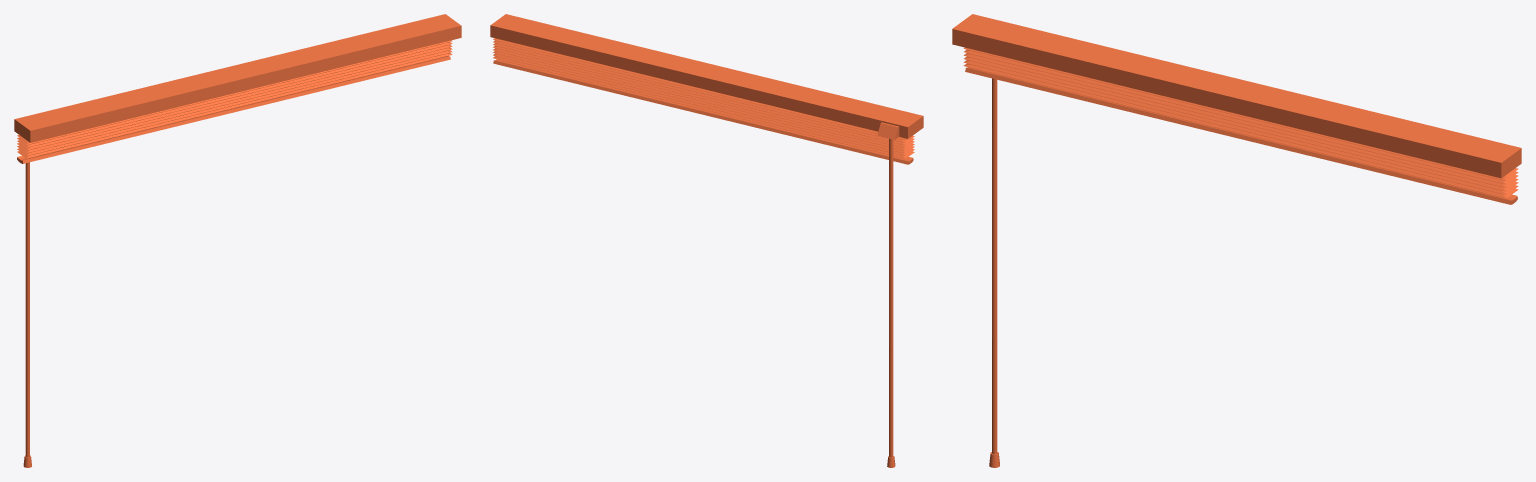
The model's file is STORES_fenetre_fermes.FBX.
The picture shows the model from 3 angles, left to right: view 1: azimuth 30°, elevation 25°; view 2: azimuth 150°, elevation 25°; view 3: azimuth 330°, elevation 25°; orthographic projection. The views are drawn at different scales.
Parts seen in each view (by area): view 1: stores002, Box001, stores_end002, stores_manivelle001; view 2: stores002, Box001, stores_end002, stores_manivelle001; view 3: stores002, Box001, stores_end002, stores_manivelle001.
Boxes of the visible parts, box(x1,y1,x2,y2) form: stores002: box(14, 14, 461, 142); Box001: box(17, 40, 452, 158); stores_end002: box(17, 56, 450, 163); stores_manivelle001: box(23, 162, 31, 467); stores002: box(490, 14, 923, 139); Box001: box(493, 38, 914, 158); stores_end002: box(493, 59, 913, 164); stores_manivelle001: box(887, 138, 895, 467); stores002: box(952, 14, 1521, 178); Box001: box(963, 47, 1518, 198); stores_end002: box(965, 67, 1517, 204); stores_manivelle001: box(989, 78, 999, 467).
Bounding box in the file's own units: 42.92 × 33.51 × 3.56.
